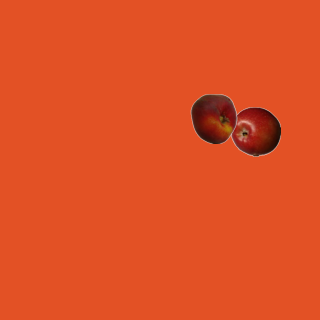Apple Braeburn: (230, 106, 280, 156)
Nectarine Flat: (188, 93, 238, 143)
